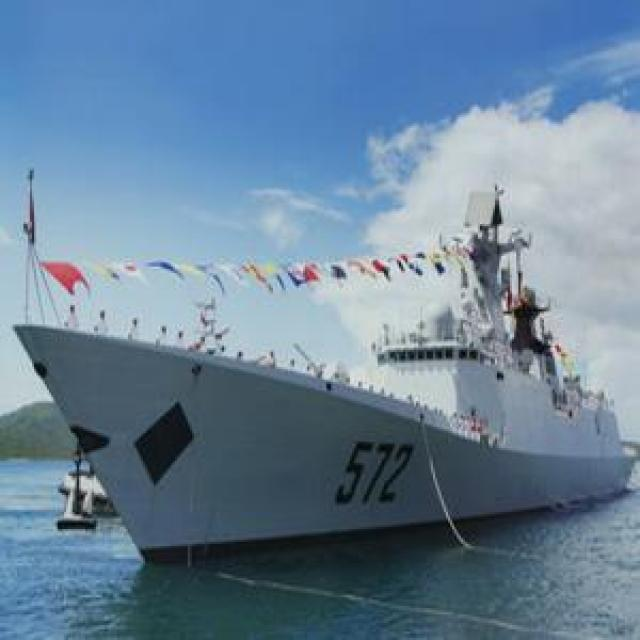navalvessels: (13, 171, 640, 576)
